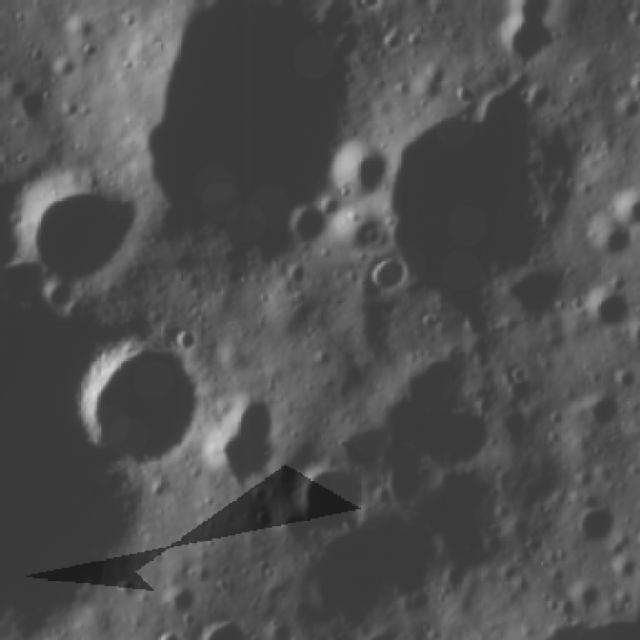crater: (72, 347, 203, 458), (0, 186, 140, 289), (290, 462, 368, 540), (207, 399, 281, 479), (322, 139, 387, 190), (583, 283, 634, 325), (288, 205, 328, 244), (372, 252, 402, 302), (581, 505, 614, 547)
